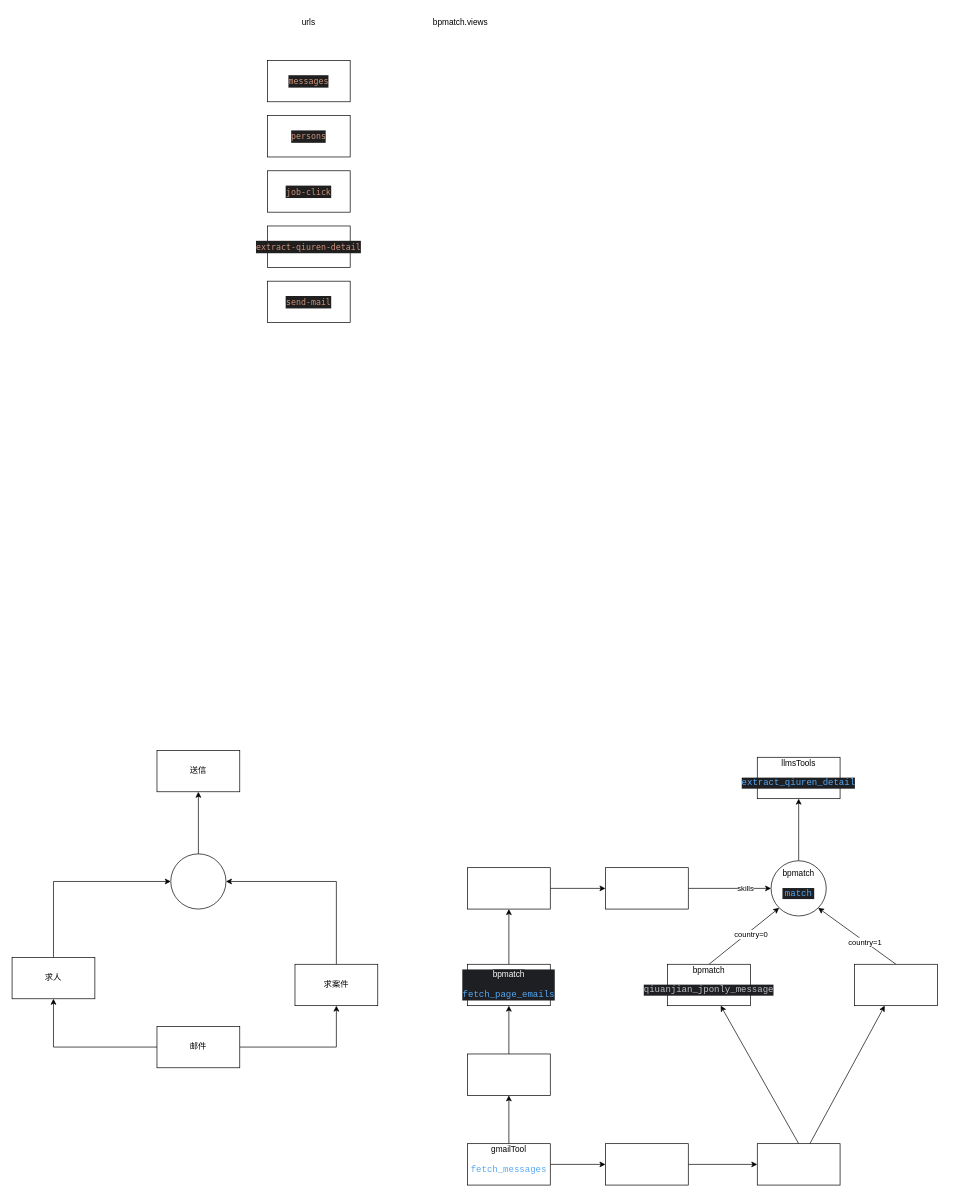
This 970x1197 diagram has some shape labels left out. The shapes that lost their labels are listed below. From the top down, each one's centre as x and y in pixels, then its label:
At (198,881): "match".
At (508,888): "views log_job_click".
At (646,888): "bpmatch qiuren_detail_analysis".
At (895,985): "bpmatch qiuanjian_other_message".
At (508,1074): "llmsTool title_analysis".
At (646,1164): "bpmatch fetch_recent_two_weeks_emails".
At (798,1164): "bpmatch qiuanjian_email_filter".
